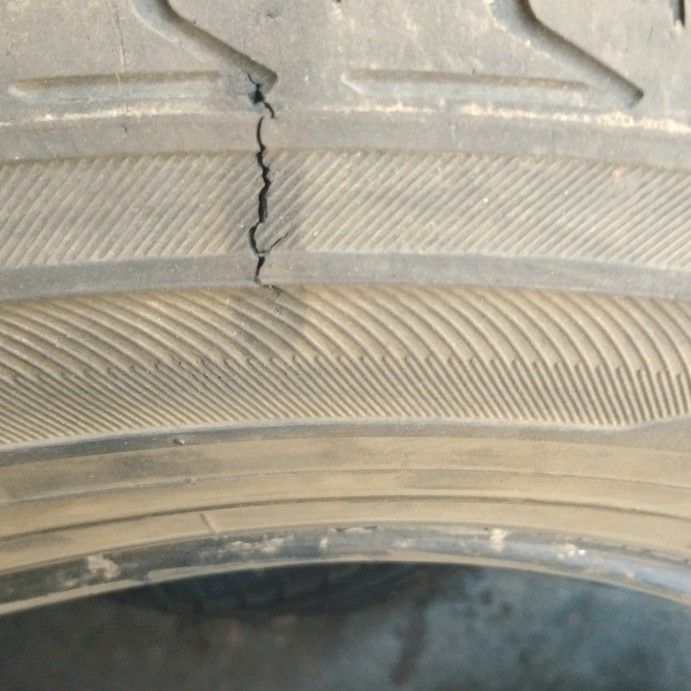cut: (235, 69, 277, 282)
